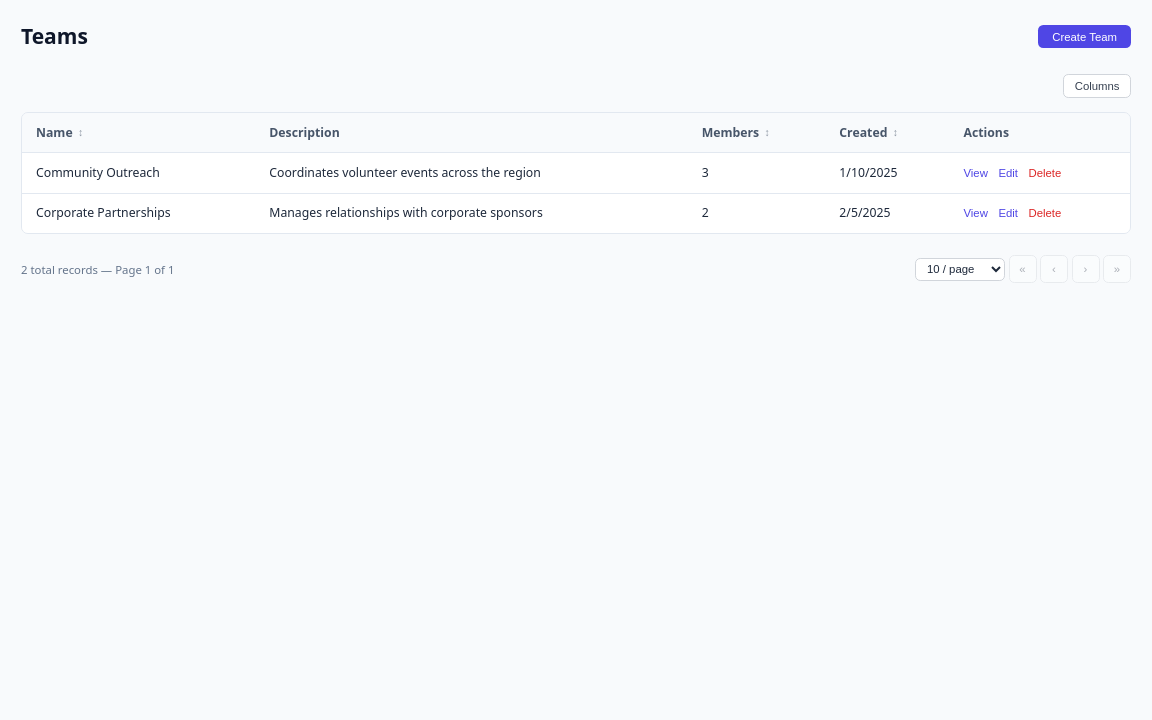
Test case: TeamListContent › shows the create form when Create Team is clicked
This screenshot has width=1152, height=720.
Expected: the text "Community Outreach" is shown, [22,153,255,193]
Click the button "Create Team" at (1085, 37), box [1038,25,1131,48]
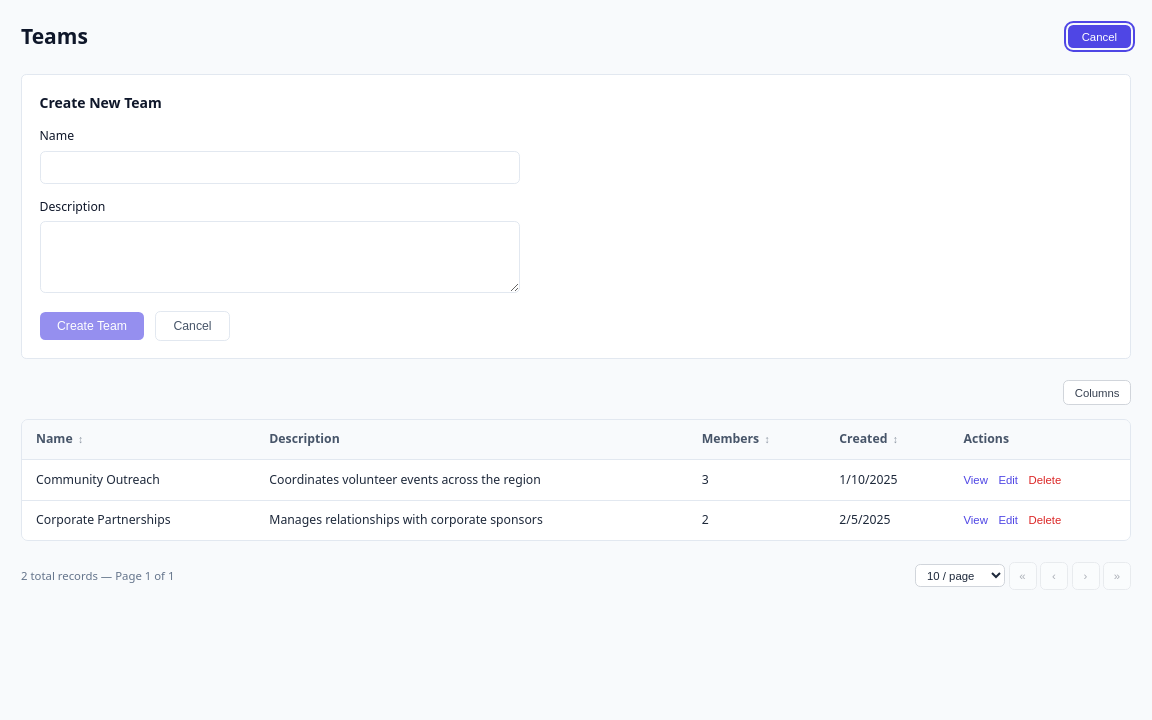
Expected: the field labelled "Name" is shown, [40,151,520,184]
Expected: the text box labelled "Description" is shown, [40,221,520,293]
